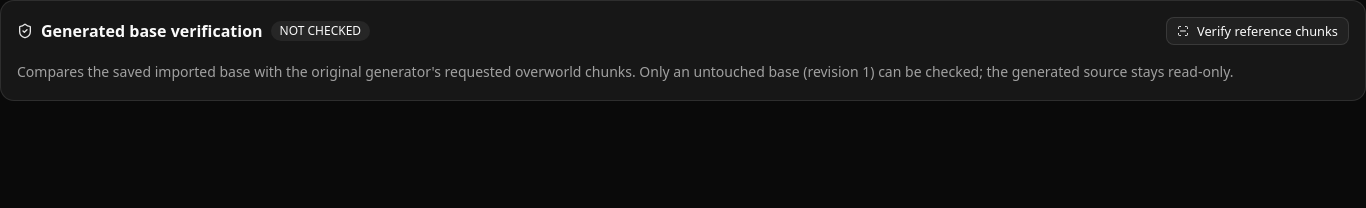
VanillaParityPanel › shows a refusal without pretending the check ran
Step 1. Click the button with aria-label "Verify generated base" → (1258,31), box x1=1166 y1=17 x2=1349 y2=45
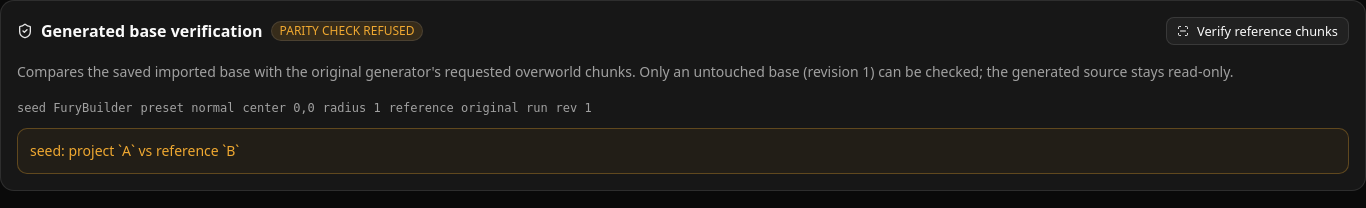
expect the text "Parity check refused" is shown: met, box x1=271 y1=21 x2=424 y2=41
expect the text "seed: project `A` vs reference `B`" is shown: met, box x1=30 y1=141 x2=239 y2=160
